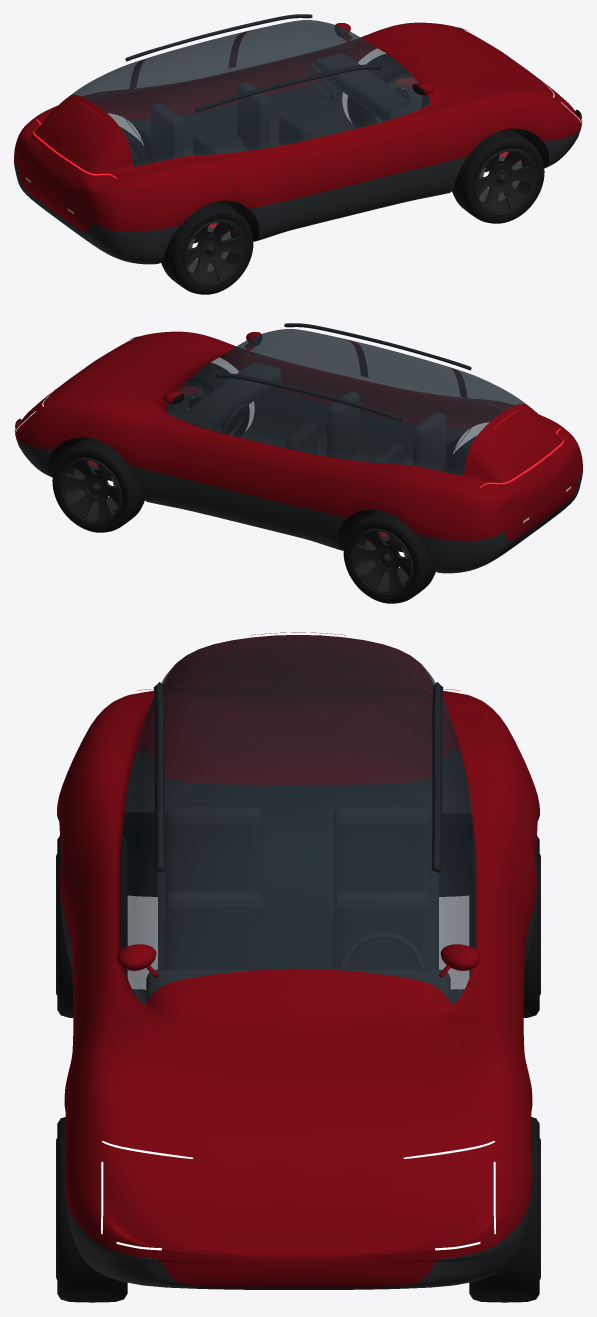
Rendered from vertigo-terra.glb.
3 renders of one model, top to bottom at view 1: azimuth 30°, elevation 25°; view 2: azimuth 150°, elevation 25°; view 3: azimuth 270°, elevation 25°, orthographic. The views are drawn at different scales.
Visible parts, largest first — view 1: vertigo-terra_Body, wheel_FR.004, wheel_RR.004, vertigo-terra_Dash, vertigo-terra_SeatBack_0_1, wheel_FL.004, vertigo-terra_SeatBack_1_1, vertigo-terra_Rail_-1, vertigo-terra_Rail_1, vertigo-terra_SeatBack_0_-1, vertigo-terra_SeatBack_1_-1, wheel_RL.004; view 2: vertigo-terra_Body, wheel_FL.004, wheel_RL.004, vertigo-terra_Dash, vertigo-terra_SeatBack_0_-1, vertigo-terra_SeatBack_1_-1, wheel_FR.004, vertigo-terra_Rail_1, vertigo-terra_Rail_-1, vertigo-terra_SeatBack_0_1, vertigo-terra_SeatBack_1_1, wheel_RR.004; view 3: vertigo-terra_Body, vertigo-terra_SeatBack_1_1, vertigo-terra_SeatBack_1_-1, vertigo-terra_SeatBack_0_-1, vertigo-terra_SeatBack_0_1, wheel_FR.004, wheel_FL.004, wheel_RR.004, wheel_RL.004, vertigo-terra_Rail_-1, vertigo-terra_Rail_1, vertigo-terra_Dash (+3 smaller).
Part boxes in pixels (bbox=[...]): vertigo-terra_Body: bbox=[14, 20, 581, 264]; wheel_FR.004: bbox=[452, 129, 544, 223]; wheel_RR.004: bbox=[161, 201, 253, 294]; vertigo-terra_Dash: bbox=[315, 53, 417, 121]; vertigo-terra_SeatBack_0_1: bbox=[237, 82, 269, 149]; wheel_FL.004: bbox=[347, 54, 430, 127]; vertigo-terra_SeatBack_1_1: bbox=[151, 103, 183, 161]; vertigo-terra_Rail_-1: bbox=[195, 64, 381, 112]; vertigo-terra_Rail_1: bbox=[125, 14, 312, 61]; vertigo-terra_SeatBack_0_-1: bbox=[279, 113, 311, 145]; vertigo-terra_SeatBack_1_-1: bbox=[193, 134, 225, 155]; wheel_RL.004: bbox=[120, 127, 149, 166]; vertigo-terra_Body: bbox=[15, 329, 582, 573]; wheel_FL.004: bbox=[52, 438, 144, 532]; wheel_RL.004: bbox=[343, 510, 435, 603]; vertigo-terra_Dash: bbox=[179, 362, 281, 430]; vertigo-terra_SeatBack_0_-1: bbox=[327, 391, 359, 458]; vertigo-terra_SeatBack_1_-1: bbox=[413, 412, 445, 470]; wheel_FR.004: bbox=[166, 363, 249, 436]; vertigo-terra_Rail_1: bbox=[215, 373, 401, 421]; vertigo-terra_Rail_-1: bbox=[284, 323, 471, 370]; vertigo-terra_SeatBack_0_1: bbox=[285, 422, 317, 454]; vertigo-terra_SeatBack_1_1: bbox=[371, 443, 403, 464]; wheel_RR.004: bbox=[447, 436, 476, 475]; vertigo-terra_Body: bbox=[57, 635, 539, 1289]; vertigo-terra_SeatBack_1_1: bbox=[334, 807, 431, 898]; vertigo-terra_SeatBack_1_-1: bbox=[165, 807, 262, 898]; vertigo-terra_SeatBack_0_-1: bbox=[165, 891, 262, 969]; vertigo-terra_SeatBack_0_1: bbox=[334, 891, 431, 969]; wheel_FR.004: bbox=[56, 1117, 127, 1302]; wheel_FL.004: bbox=[469, 1117, 540, 1302]; wheel_RR.004: bbox=[56, 834, 127, 1017]; wheel_RL.004: bbox=[469, 834, 540, 1017]; vertigo-terra_Rail_-1: bbox=[153, 682, 165, 873]; vertigo-terra_Rail_1: bbox=[431, 682, 443, 873]; vertigo-terra_Dash: bbox=[146, 969, 450, 1001].
Bounding box in the file's own units: 4.91 × 1.68 × 2.07.
